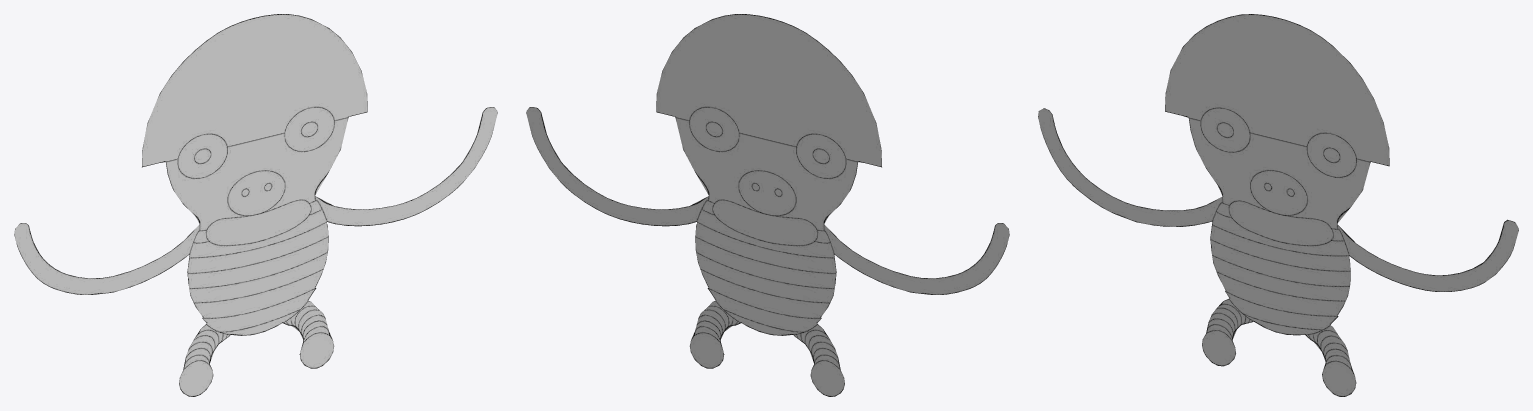
The model's file is 20_byun_ung_fix.fbx.
3 views of the same model, side by side, from view 1: azimuth 30°, elevation 25°; view 2: azimuth 150°, elevation 25°; view 3: azimuth 330°, elevation 25° (orthographic).
Visible parts, largest first — view 1: planarTrimmedSurface19; view 2: planarTrimmedSurface19; view 3: planarTrimmedSurface19.
Boxes of the visible parts, x1,y1,x2,y2 form: planarTrimmedSurface19: [14, 14, 497, 396]; planarTrimmedSurface19: [526, 14, 1009, 396]; planarTrimmedSurface19: [1038, 14, 1518, 396].
Size of the model in its own units: 13.44 by 9.72 by 1.58e-06.
Materials: 1 (1 with a texture image).
